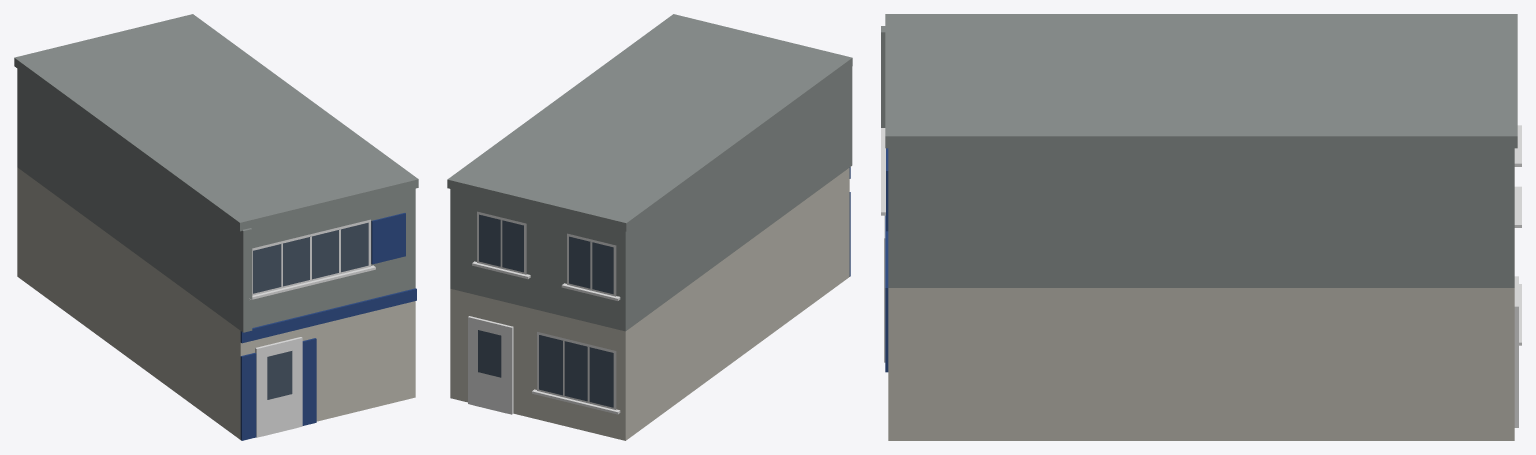
File: zo-kb-patio-ribbon__blue__2__flat__long__solid.glb
The picture shows the model from 3 angles, left to right: view 1: azimuth 30°, elevation 25°; view 2: azimuth 150°, elevation 25°; view 3: azimuth 270°, elevation 25°; orthographic projection. The views are drawn at different scales.
Visible parts, largest first — view 1: zo-kb-patio-ribbon__blue__2__flat__long__solid; view 2: zo-kb-patio-ribbon__blue__2__flat__long__solid; view 3: zo-kb-patio-ribbon__blue__2__flat__long__solid.
Part boxes in pixels (x1,y1,x2,y2): zo-kb-patio-ribbon__blue__2__flat__long__solid: (14,14,418,440); zo-kb-patio-ribbon__blue__2__flat__long__solid: (447,14,852,440); zo-kb-patio-ribbon__blue__2__flat__long__solid: (881,14,1521,440).
Bounding box in the file's own units: 4.79 × 5.59 × 10.61.
